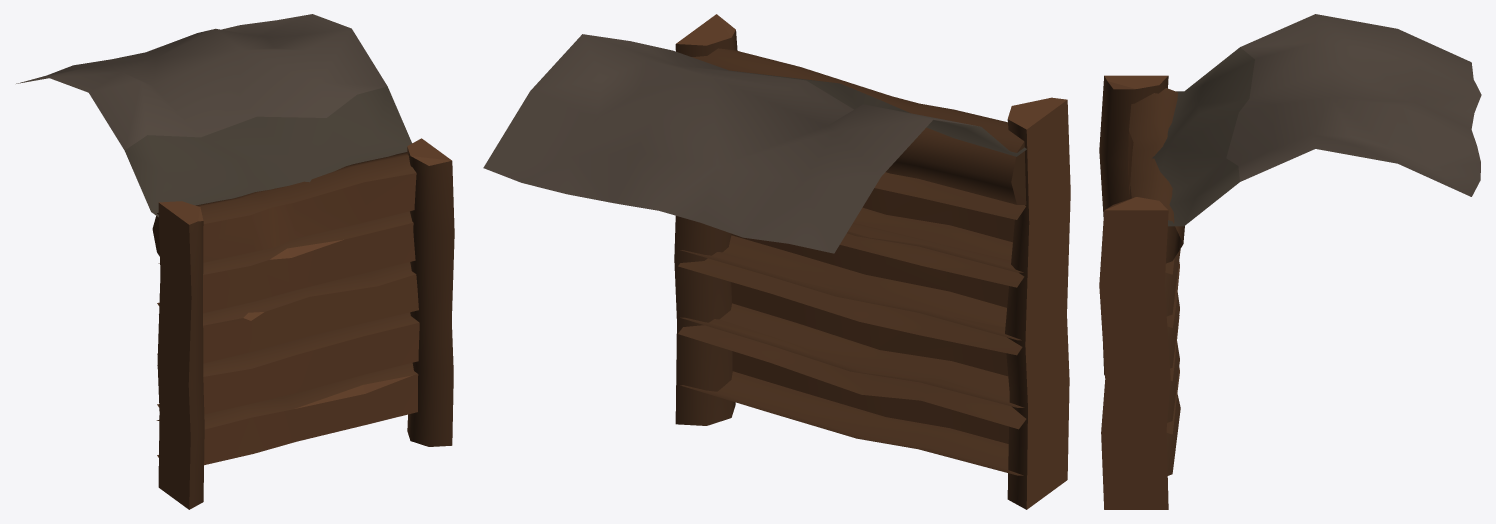
File: 20C_trench_200_Half02.fbx
3 views of the same model, side by side, from view 1: azimuth 30°, elevation 25°; view 2: azimuth 150°, elevation 25°; view 3: azimuth 270°, elevation 25° (orthographic). The views are drawn at different scales.
Parts seen in each view (by area): view 1: 20C_trench_200_Half02; view 2: 20C_trench_200_Half02; view 3: 20C_trench_200_Half02.
Boxes of the visible parts, x1,y1,x2,y2 form: 20C_trench_200_Half02: [16, 14, 454, 509]; 20C_trench_200_Half02: [483, 14, 1070, 509]; 20C_trench_200_Half02: [1099, 14, 1481, 509].
Size of the model in its own units: 20 by 24.96 by 23.96.
Materials: 1 (1 with a texture image).
